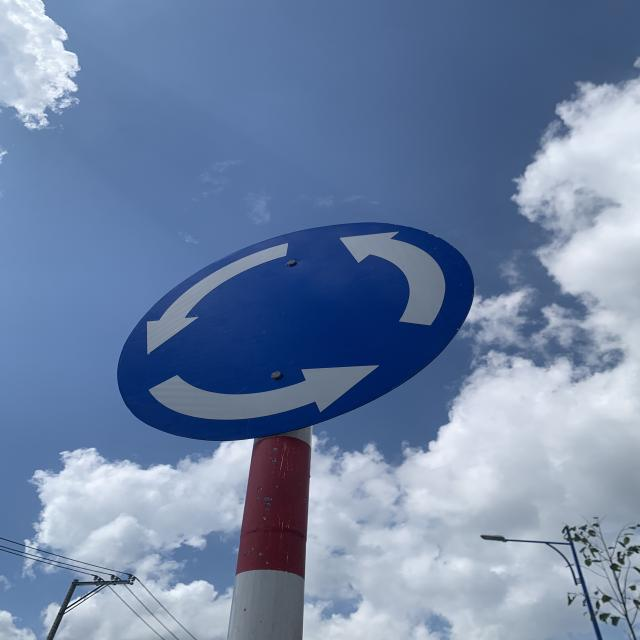Xe_Bus: (112, 218, 478, 439)
